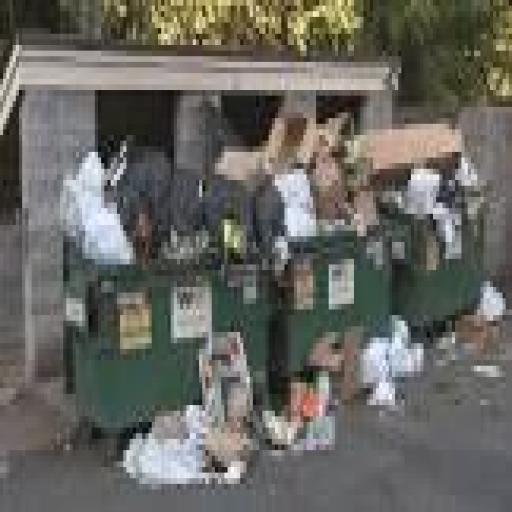poubelle_pleine: (60, 118, 283, 470), (372, 124, 506, 365)
